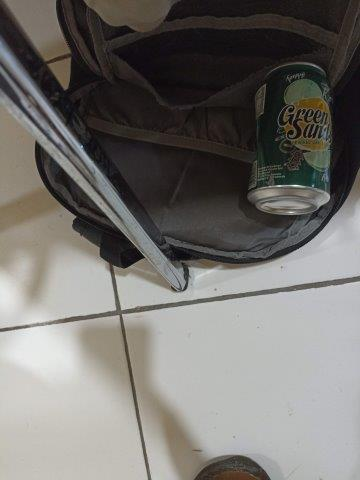kaleng: (247, 61, 331, 215)
